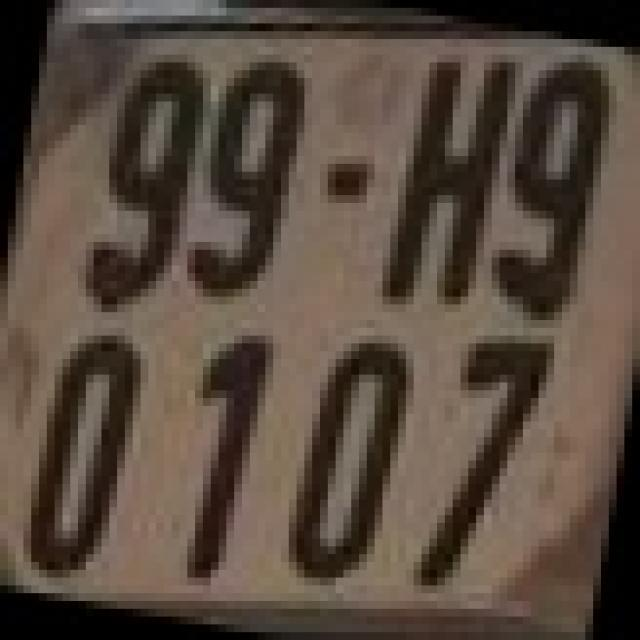0: (281, 336, 414, 586), (23, 328, 148, 578)
1: (172, 328, 274, 586)
7: (414, 336, 554, 594)
9: (70, 55, 203, 312), (188, 54, 312, 304), (492, 62, 608, 320)
H: (382, 54, 508, 304)
